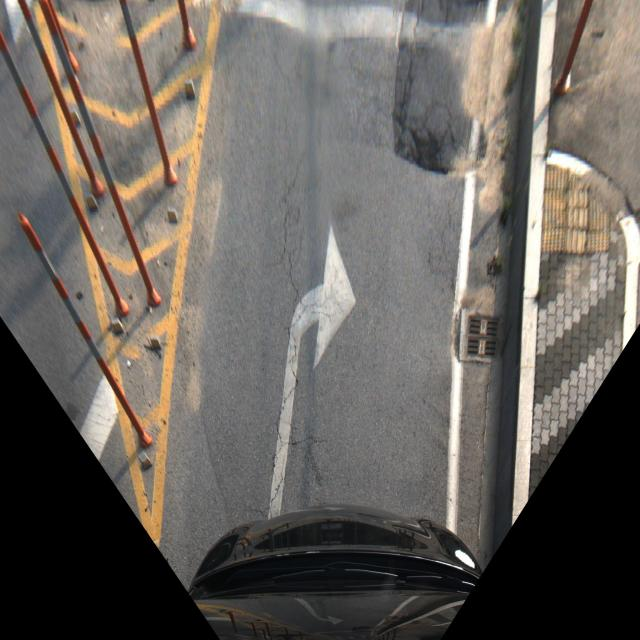right: (201, 113, 467, 516)
